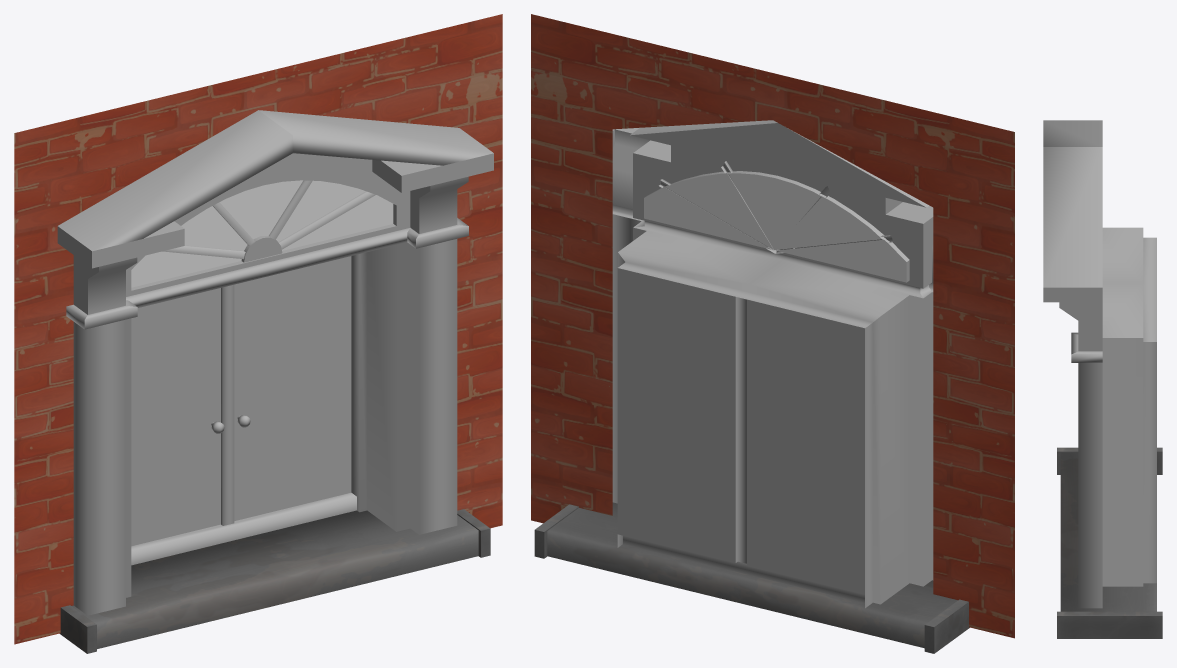
The model's file is Door_02.fbx.
3 renders of one model, left to right at view 1: azimuth 30°, elevation 25°; view 2: azimuth 150°, elevation 25°; view 3: azimuth 270°, elevation 25°, orthographic. The views are drawn at different scales.
Parts seen in each view (by area): view 1: Door_02; view 2: Door_02; view 3: Door_02.
Boxes of the visible parts, x1,y1,x2,y2 form: Door_02: (14, 14, 502, 653); Door_02: (531, 14, 1014, 653); Door_02: (1043, 120, 1162, 638).
Size of the model in its own units: 5 by 5.01 by 1.24.
